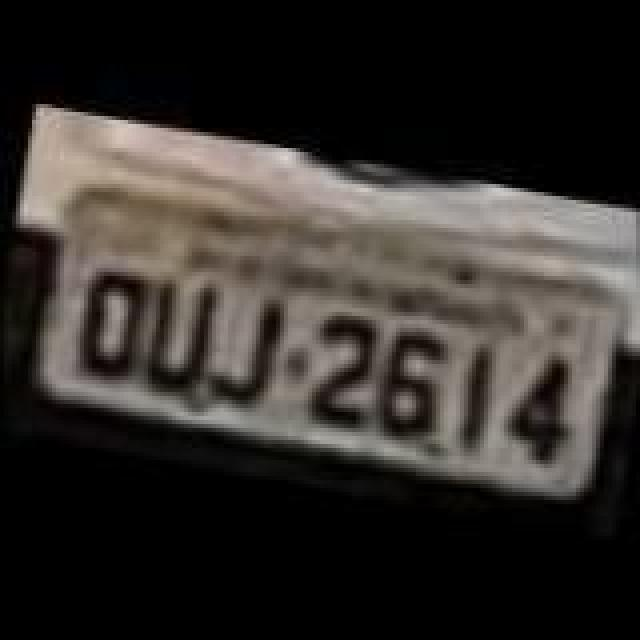1: (440, 334, 512, 462)
2: (296, 302, 396, 434)
4: (492, 336, 588, 472)
6: (362, 316, 454, 448)
J: (190, 280, 294, 412)
O: (62, 260, 158, 388)
U: (128, 262, 228, 398)
